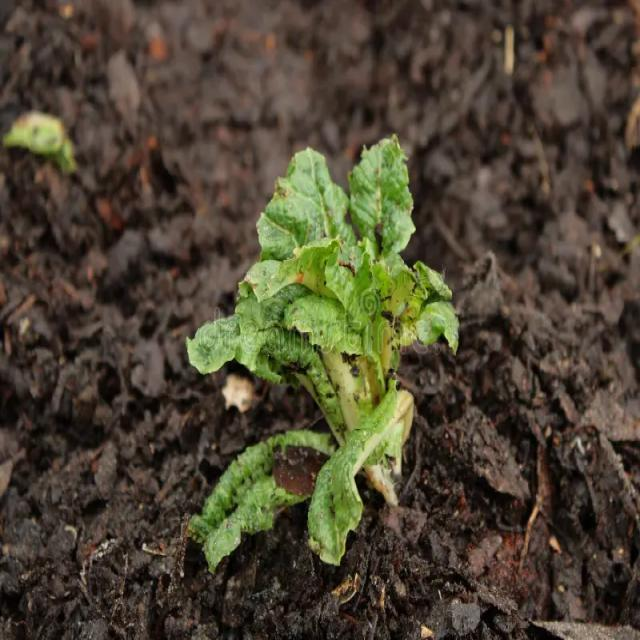inmadura: (186, 137, 458, 572)
